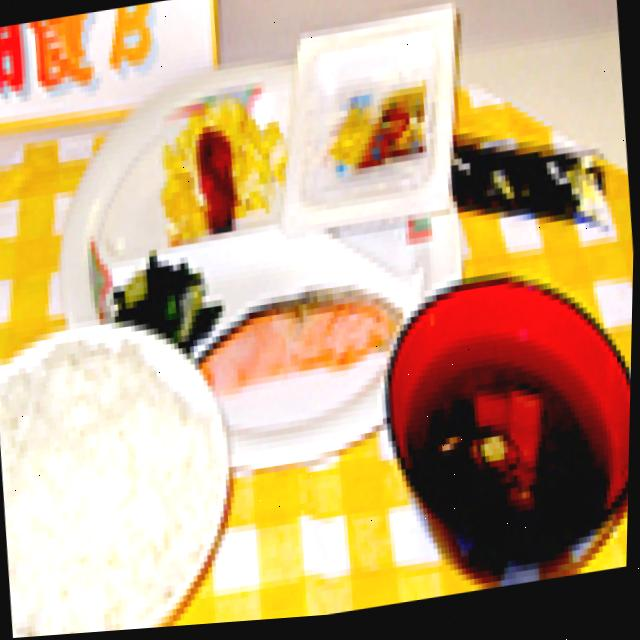熟制海鲜: (150, 252, 407, 415)
